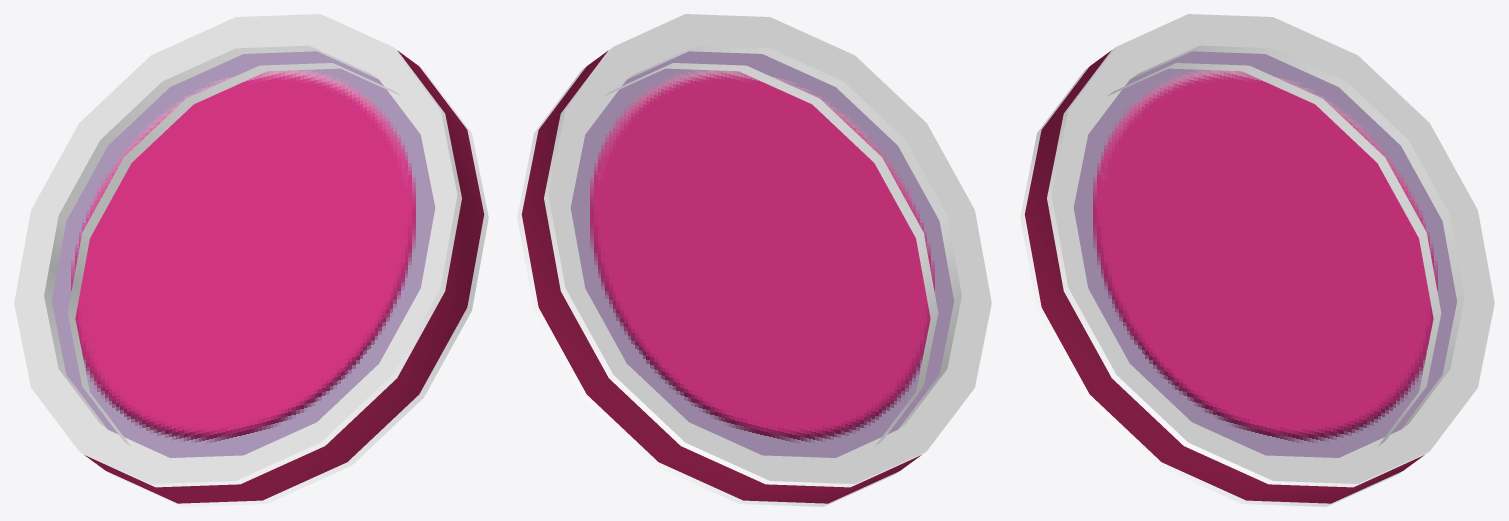
The model's file is ps2_save-icons_kyoukaramaoushinmakokunokyuujitsu.glb.
3 views of the same model, side by side, from view 1: azimuth 30°, elevation 25°; view 2: azimuth 150°, elevation 25°; view 3: azimuth 330°, elevation 25° (orthographic).
Visible parts, largest first — view 1: icon1.ico; view 2: icon1.ico; view 3: icon1.ico.
Part boxes in pixels (x1=…): icon1.ico: x1=14, y1=14, x2=488, y2=506; icon1.ico: x1=517, y1=14, x2=991, y2=506; icon1.ico: x1=1020, y1=14, x2=1494, y2=506.
Bounding box in the file's own units: 4.04 × 4.04 × 0.4946.
1 material, 1 textured.
